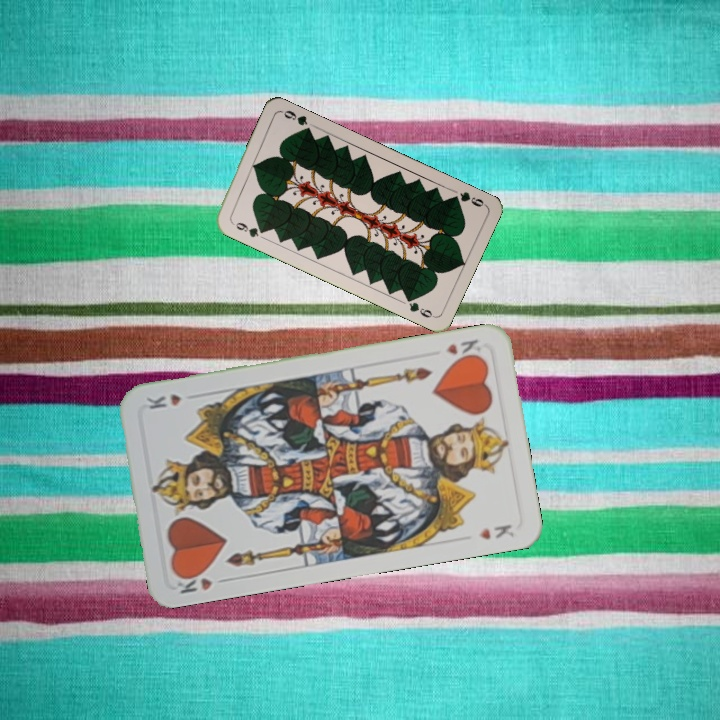G9: (227, 217, 268, 240), (446, 188, 488, 210)
HK: (172, 566, 231, 597), (442, 335, 484, 364)
